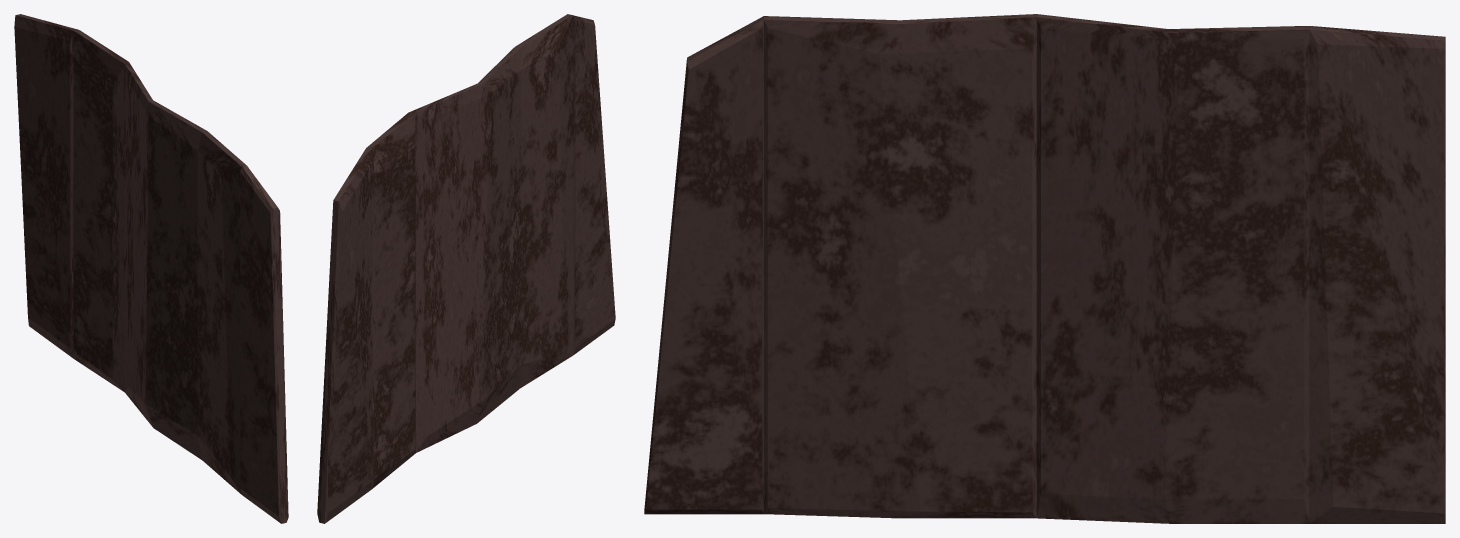
File: ZinkPlate.fbx
3 renders of one model, left to right at view 1: azimuth 30°, elevation 25°; view 2: azimuth 150°, elevation 25°; view 3: azimuth 270°, elevation 25°, orthographic. The views are drawn at different scales.
Visible parts, largest first — view 1: Cube; view 2: Cube; view 3: Cube.
Boxes of the visible parts, x1,y1,x2,y2 form: Cube: [14, 14, 288, 523]; Cube: [317, 14, 615, 523]; Cube: [644, 14, 1445, 523].
Size of the model in its own units: 37.37 by 588 by 400.
Materials: 1 (1 with a texture image).
